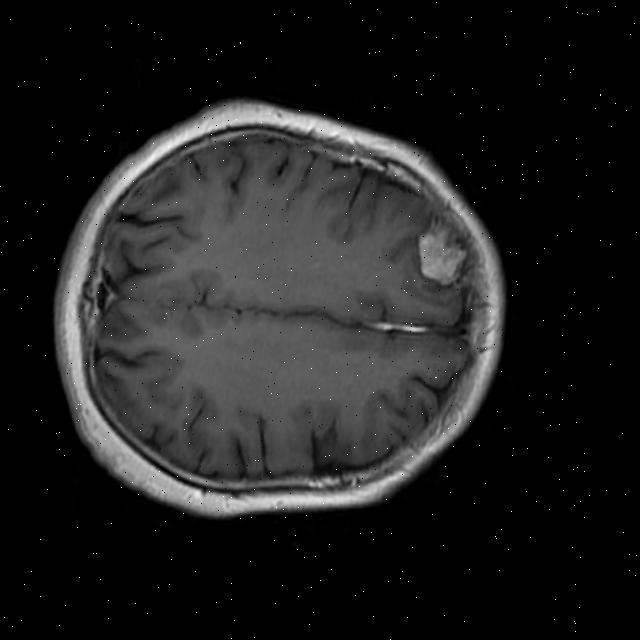Meningioma: (406, 224, 472, 289)
